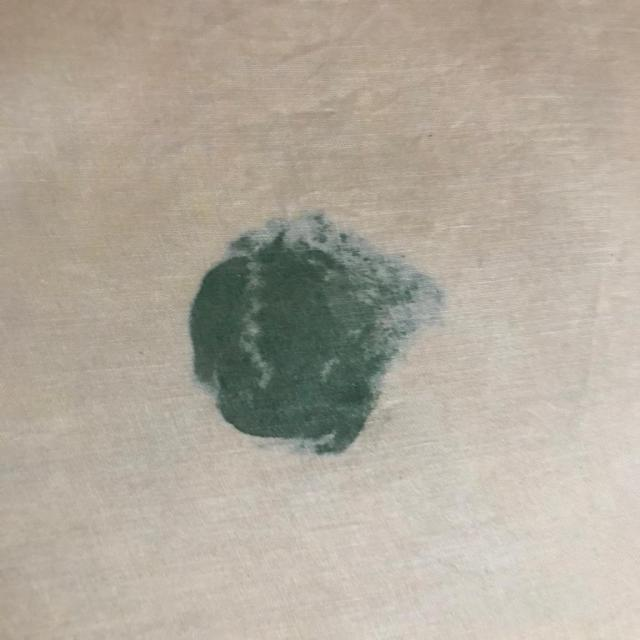Stain: (189, 214, 443, 453)
